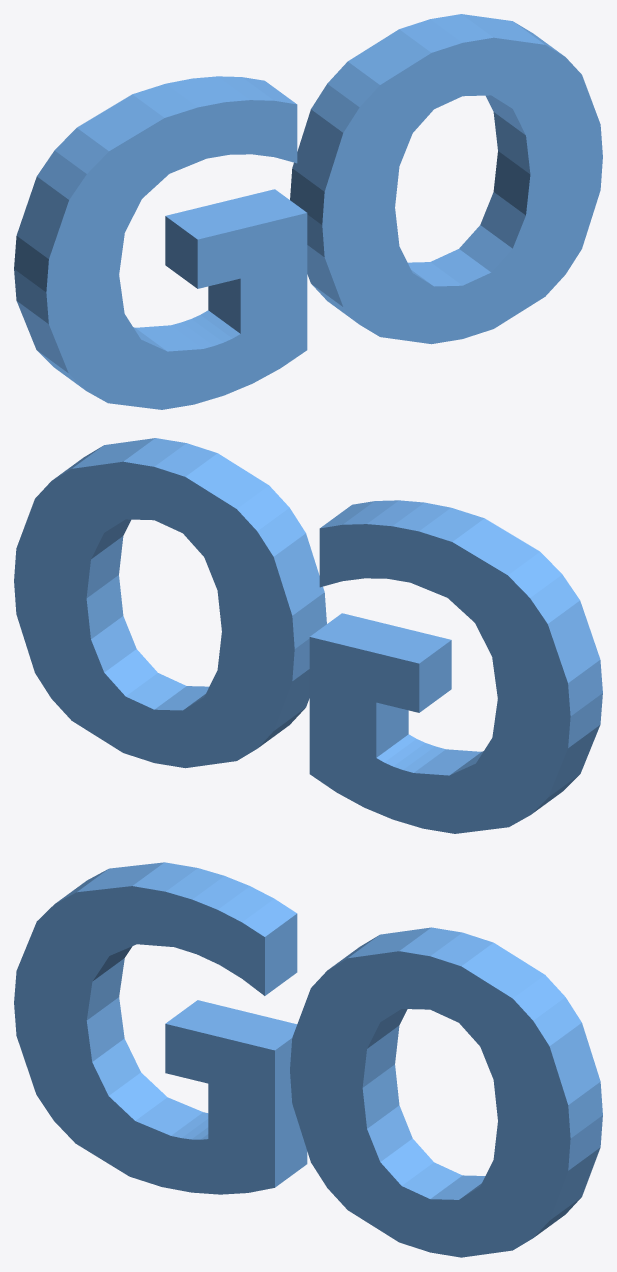
File: suku_besar_go.glb
3 views of the same model, one above another, from view 1: azimuth 30°, elevation 25°; view 2: azimuth 150°, elevation 25°; view 3: azimuth 330°, elevation 25° (orthographic).
Visible parts, largest first — view 1: geometry_0; view 2: geometry_0; view 3: geometry_0.
Part boxes in pixels (box(x1,y1,x2,y2)): geometry_0: box(14, 14, 602, 409); geometry_0: box(14, 438, 602, 833); geometry_0: box(14, 862, 602, 1257).
Bounding box in the file's own units: 14.87 × 7.56 × 1.5.
